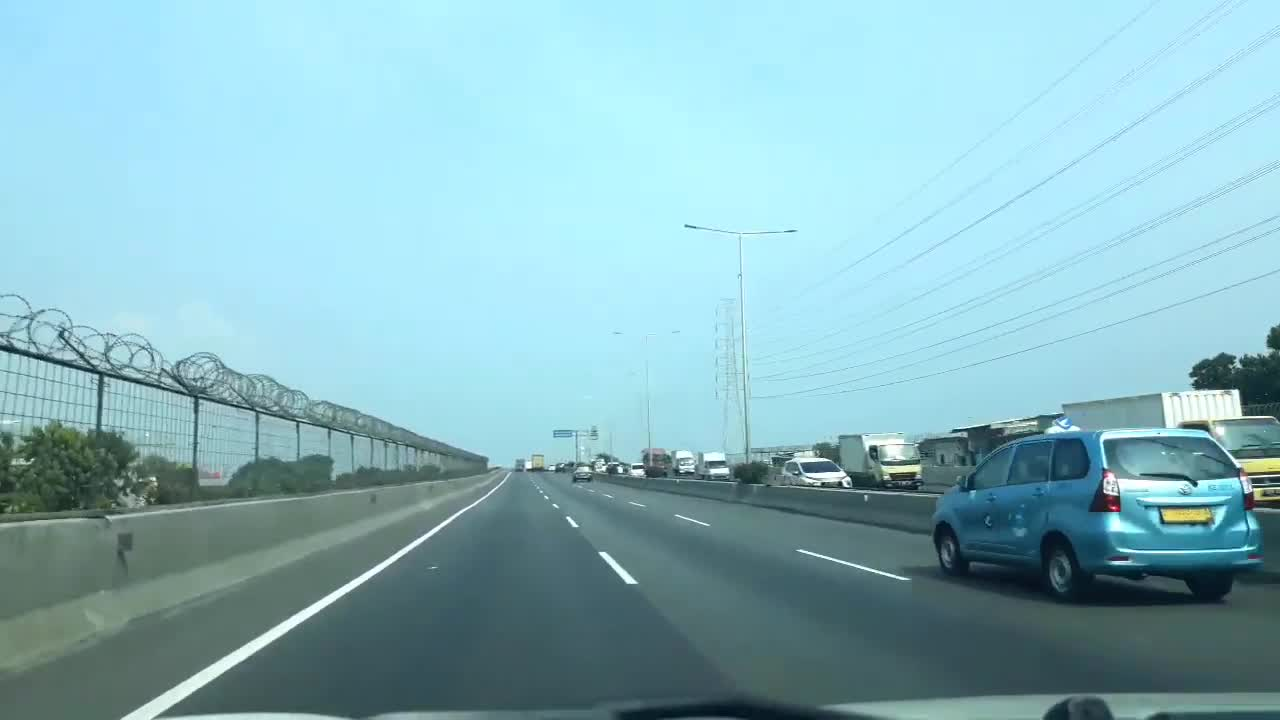plate_positive: (1160, 506, 1214, 523)
